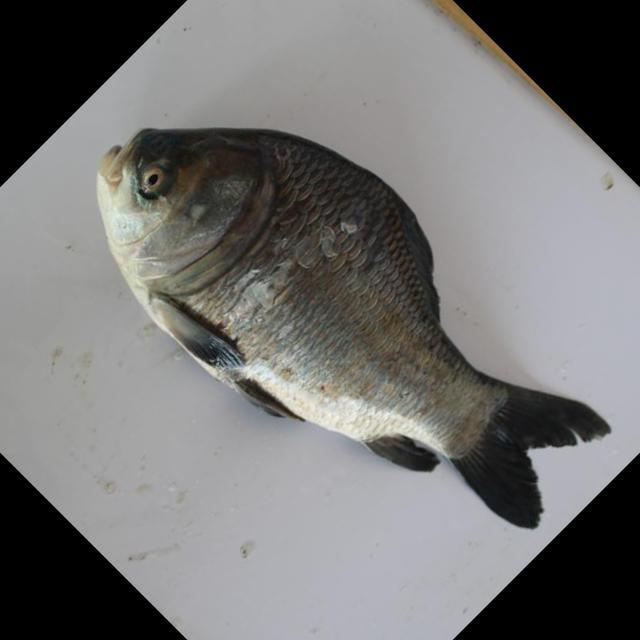Catla: (96, 123, 608, 530)
